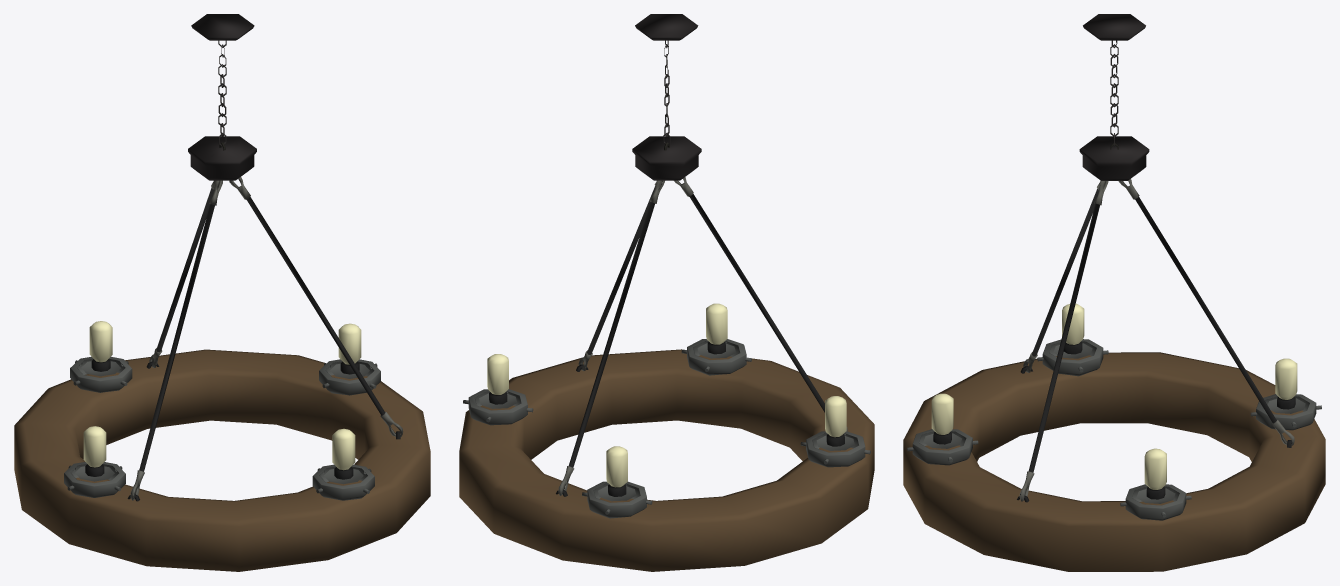
The model's file is Chandelier_Rustic.fbx.
3 views of the same model, side by side, from view 1: azimuth 30°, elevation 25°; view 2: azimuth 150°, elevation 25°; view 3: azimuth 270°, elevation 25° (orthographic).
Visible parts, largest first — view 1: Chandelier_Rustic, Chandelier_Rustic_Candles; view 2: Chandelier_Rustic, Chandelier_Rustic_Candles; view 3: Chandelier_Rustic, Chandelier_Rustic_Candles.
Part boxes in pixels (x1,y1,x2,y2): Chandelier_Rustic: [14, 14, 430, 571]; Chandelier_Rustic_Candles: [64, 321, 380, 500]; Chandelier_Rustic: [459, 14, 874, 571]; Chandelier_Rustic_Candles: [463, 303, 870, 518]; Chandelier_Rustic: [903, 14, 1325, 571]; Chandelier_Rustic_Candles: [907, 303, 1321, 520].
Size of the model in its own units: 54.38 by 66.68 by 55.32.
